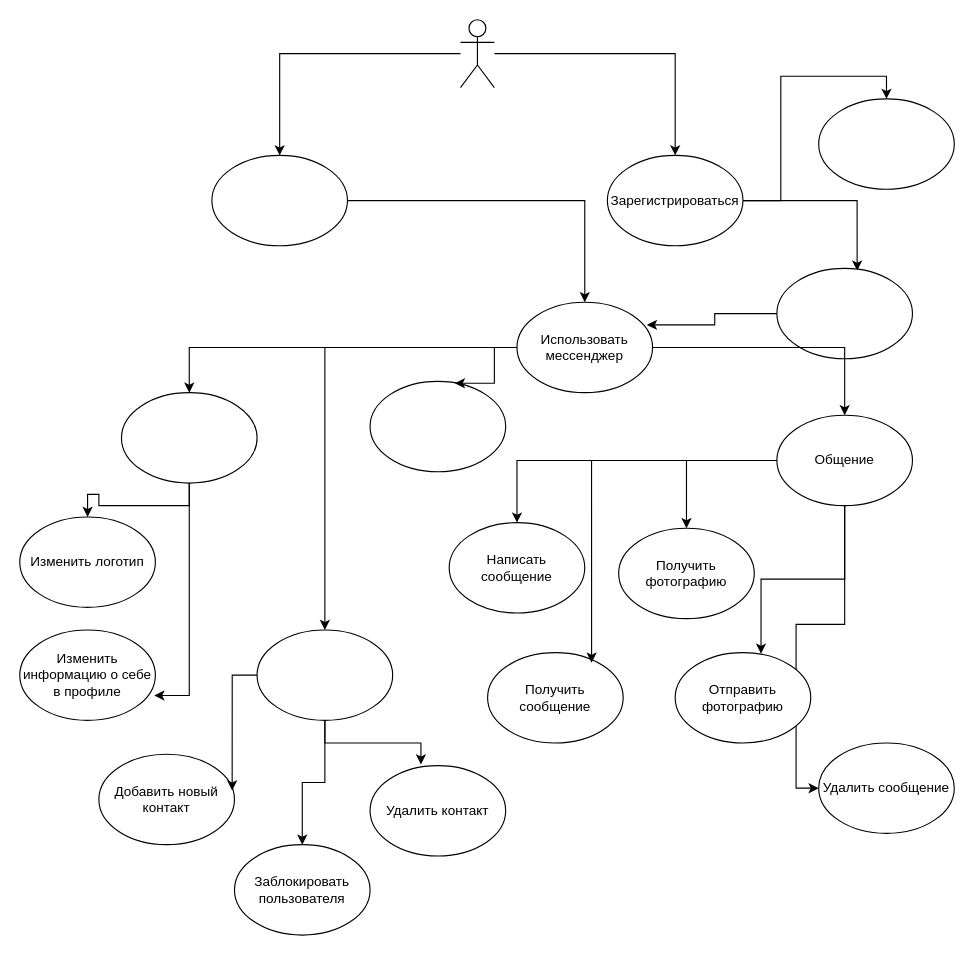
This 974x955 diagram has some shape labels left out. Here are the shapes that lost their labels. From the top down, the centre of each, then its label:
At pixel 476 53: "Actor".
At pixel 886 143: "Загрузить логотип".
At pixel 279 200: "Войти в мессенджер".
At pixel 844 313: "Заполнить профиль".
At pixel 188 437: "Манипуляции со своим профилем".
At pixel 437 426: "Выйти из мессенджера".
At pixel 324 674: "Посмотреть список контактов".
